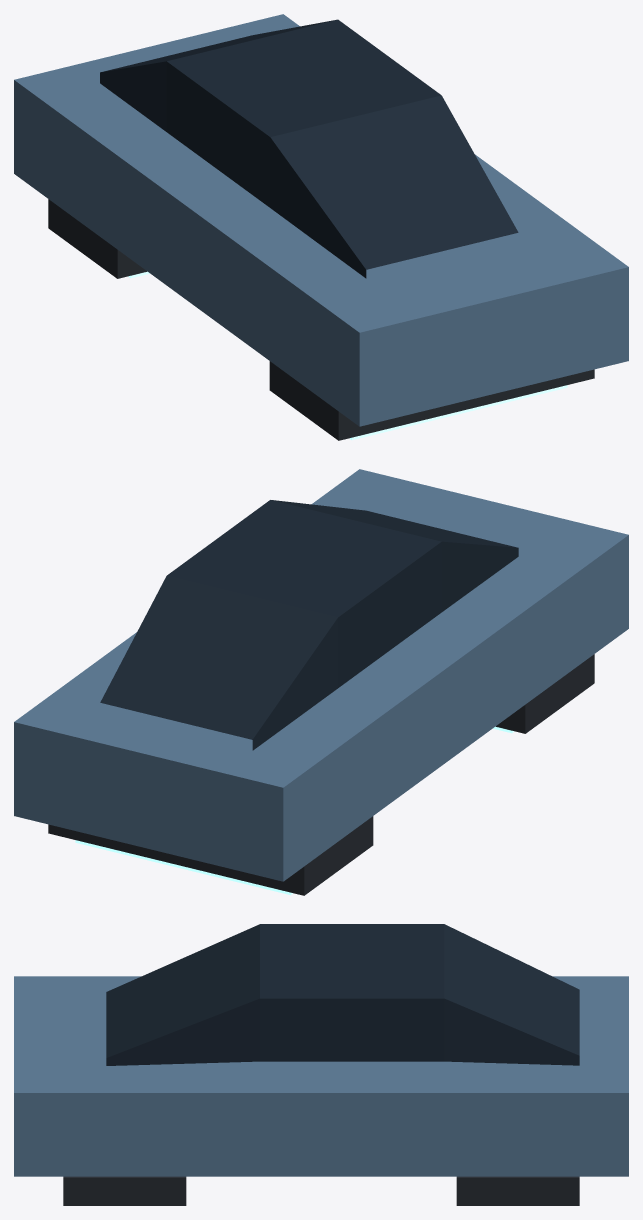
Rendered from veh_ground_car_a10_lod1.glb.
The picture shows the model from 3 angles, top to bottom: view 1: azimuth 30°, elevation 25°; view 2: azimuth 150°, elevation 25°; view 3: azimuth 270°, elevation 25°; orthographic projection. The views are drawn at different scales.
Parts seen in each view (by area): view 1: body; view 2: body; view 3: body.
Boxes of the visible parts, left/top/right/bottom form: body: left=14, top=14, right=628, bottom=440; body: left=14, top=469, right=628, bottom=895; body: left=14, top=924, right=628, bottom=1205.
Size of the model in its own units: 1.8 by 1.42 by 4.
